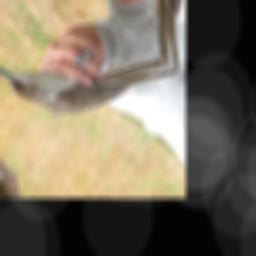Cuckoo: (0, 0, 178, 170)
